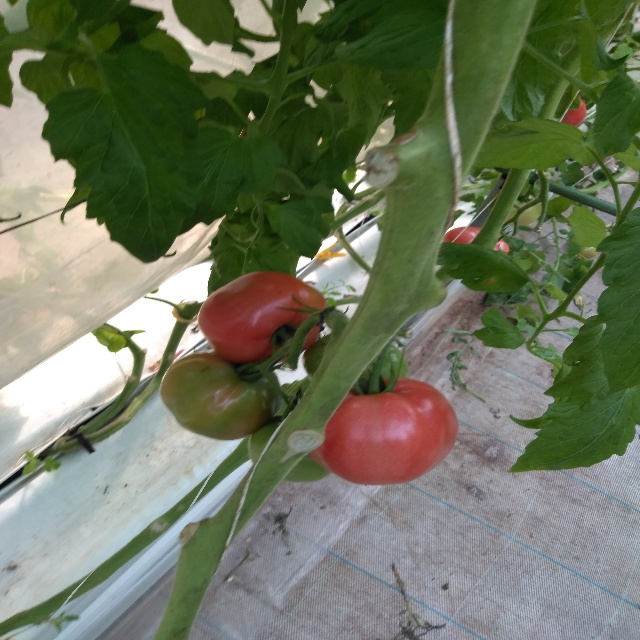b_fully_ripened: (311, 377, 459, 486), (198, 271, 326, 364), (442, 226, 508, 255)
b_green: (159, 349, 282, 441), (503, 194, 543, 225)
